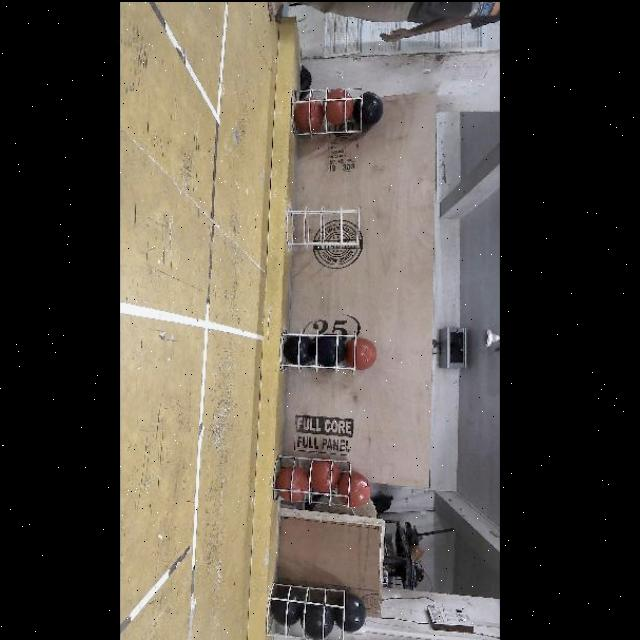P: (272, 587, 304, 625), (336, 596, 369, 629), (353, 92, 383, 125), (285, 334, 313, 364), (317, 332, 345, 362), (305, 606, 331, 634)
R: (337, 470, 373, 506), (346, 337, 378, 368), (280, 465, 308, 499), (325, 92, 353, 126), (298, 96, 322, 130), (311, 458, 337, 489)
S: (266, 578, 354, 640), (274, 457, 350, 508), (295, 78, 367, 130), (279, 328, 365, 368), (285, 207, 365, 249)
